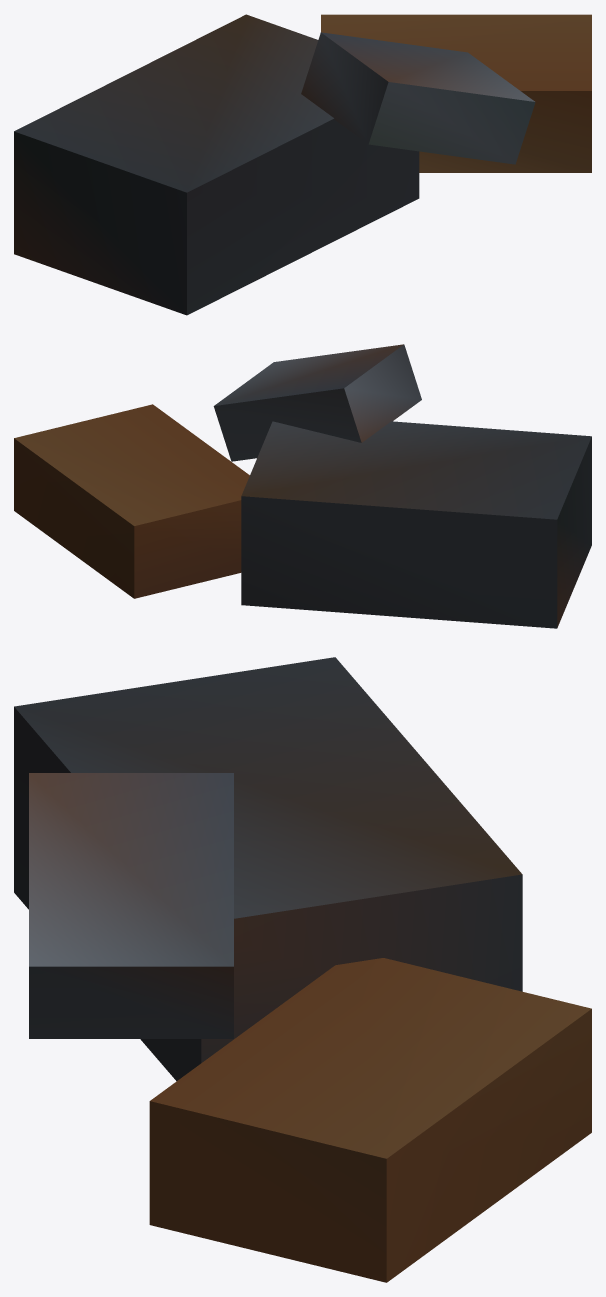
Rendered from debris.glb.
The picture shows the model from 3 angles, top to bottom: view 1: azimuth 30°, elevation 25°; view 2: azimuth 150°, elevation 25°; view 3: azimuth 270°, elevation 25°; orthographic projection. The views are drawn at different scales.
Visible parts, largest first — view 1: debris; view 2: debris; view 3: debris.
Part boxes in pixels (x1,y1,x2,y2): debris: (14, 14, 591, 315); debris: (14, 344, 591, 628); debris: (14, 657, 591, 1282).
Bounding box in the file's own units: 30.42 × 8.78 × 16.9.
